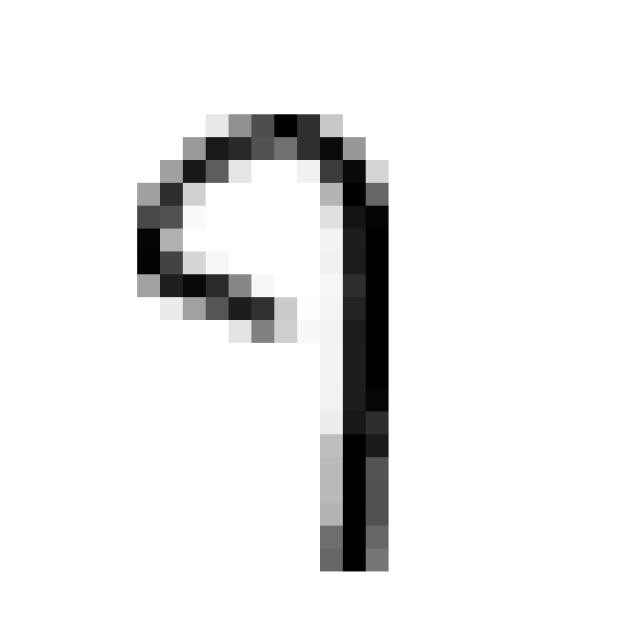9 -nine-: (114, 85, 406, 602)
